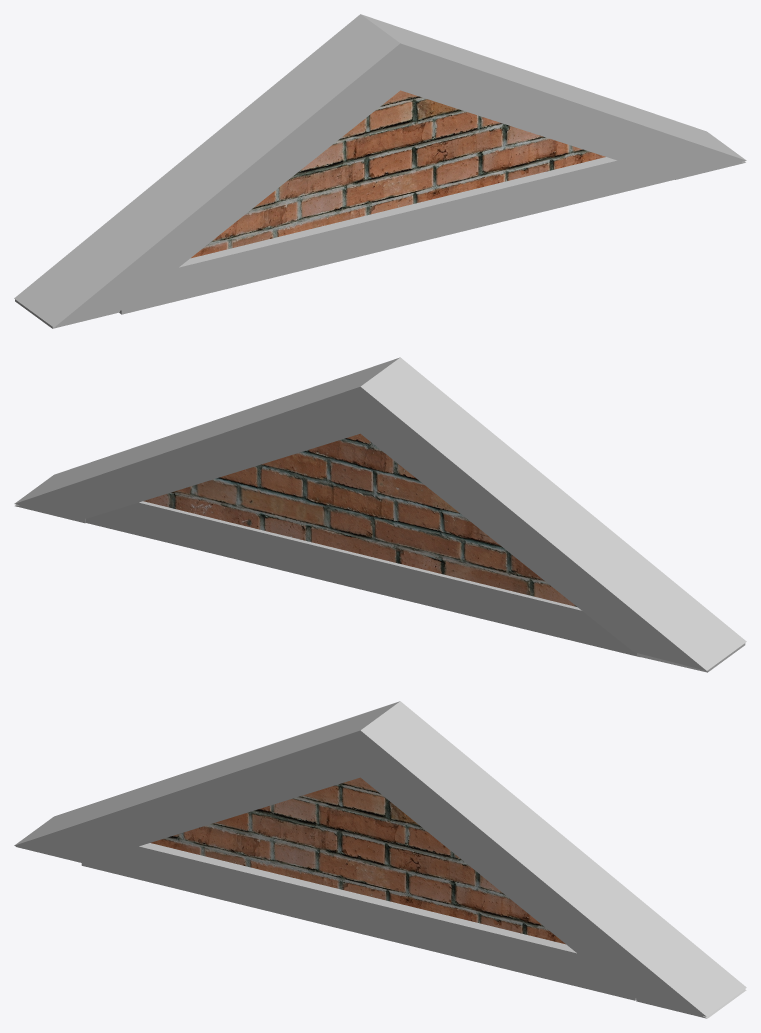
File: HouseHalfBrickWall_LOWCENTER_UPPER.fbx
3 renders of one model, top to bottom at view 1: azimuth 30°, elevation 25°; view 2: azimuth 150°, elevation 25°; view 3: azimuth 330°, elevation 25°, orthographic.
Visible parts, largest first — view 1: polySurface1; view 2: polySurface1; view 3: polySurface1.
Part boxes in pixels (x1,y1,x2,y2): polySurface1: [14, 14, 746, 328]; polySurface1: [14, 357, 746, 672]; polySurface1: [14, 701, 746, 1018].
Size of the model in its own units: 250 by 70.4 by 25.
